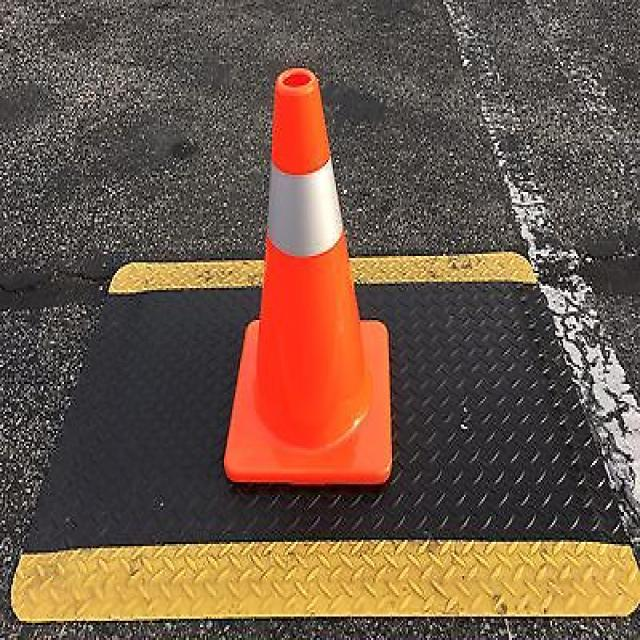Traffic Cone: (193, 32, 424, 516)
